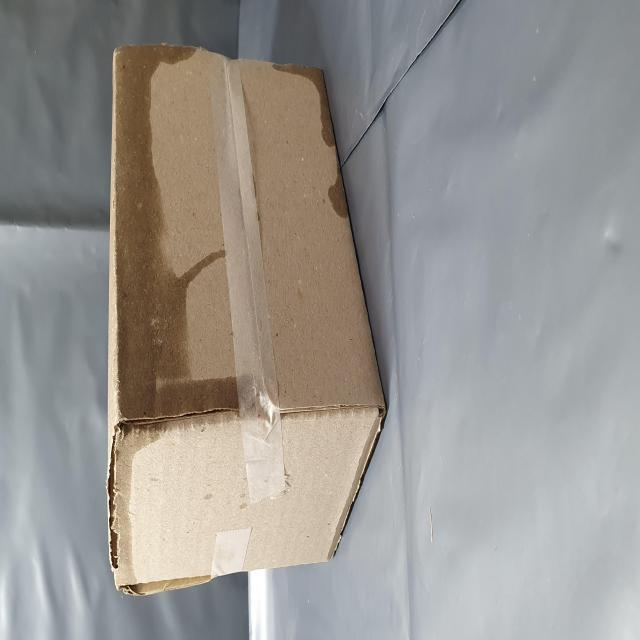wet: (125, 202, 338, 408), (24, 186, 124, 274)
